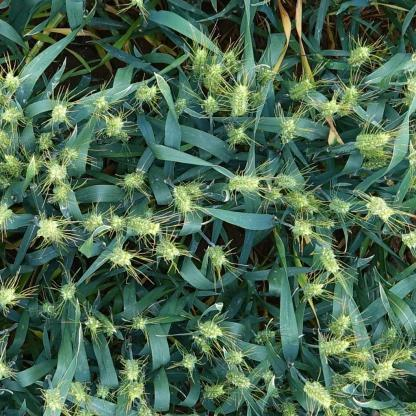whd: (365, 196, 392, 223), (303, 380, 331, 406), (332, 372, 348, 416), (337, 85, 358, 114), (229, 84, 248, 116), (128, 216, 160, 235), (228, 175, 260, 193), (354, 133, 391, 148), (260, 371, 280, 398), (156, 238, 180, 260), (319, 248, 339, 274), (374, 327, 396, 350), (373, 360, 395, 383), (348, 46, 372, 67), (207, 246, 228, 270), (318, 339, 349, 355), (106, 246, 132, 265), (289, 79, 312, 100), (36, 219, 59, 240), (173, 186, 193, 210), (0, 155, 21, 177), (192, 48, 206, 78), (105, 117, 125, 138), (329, 315, 350, 335), (121, 359, 139, 382), (198, 321, 222, 338), (226, 373, 250, 390), (204, 64, 219, 91), (287, 190, 308, 209), (329, 196, 350, 214), (223, 52, 239, 75), (320, 97, 338, 117), (134, 85, 158, 100), (44, 390, 62, 410), (227, 127, 245, 146), (192, 335, 211, 353), (123, 171, 143, 188), (203, 384, 224, 400), (347, 366, 368, 382), (2, 73, 19, 92), (83, 215, 102, 232), (292, 219, 311, 236), (70, 382, 86, 402), (303, 283, 323, 299), (305, 195, 321, 215), (274, 173, 295, 188), (127, 0, 148, 15), (281, 119, 294, 143), (182, 353, 198, 372), (127, 382, 144, 399), (50, 164, 66, 182), (52, 104, 67, 123), (256, 329, 275, 344), (359, 159, 387, 169), (3, 110, 23, 124), (0, 288, 16, 305), (257, 71, 275, 86), (247, 90, 262, 108), (402, 229, 416, 248), (392, 349, 411, 363), (38, 132, 52, 150), (0, 203, 12, 224), (402, 76, 416, 94), (320, 217, 338, 231), (402, 90, 416, 108), (61, 284, 76, 300), (350, 348, 370, 360), (205, 96, 219, 113), (361, 147, 386, 156), (281, 402, 297, 416), (28, 157, 42, 173), (52, 186, 67, 200), (95, 386, 110, 400), (228, 350, 243, 364), (61, 148, 78, 160), (175, 98, 186, 116), (0, 130, 11, 148), (110, 216, 124, 230), (266, 187, 280, 201), (95, 96, 107, 112), (185, 184, 201, 195), (85, 317, 99, 329), (132, 317, 146, 329), (42, 302, 56, 314), (379, 408, 400, 415), (0, 175, 11, 188), (406, 402, 416, 416), (0, 93, 10, 107), (76, 408, 96, 415), (0, 361, 8, 378), (104, 328, 116, 338), (138, 408, 152, 415), (412, 52, 416, 64)
